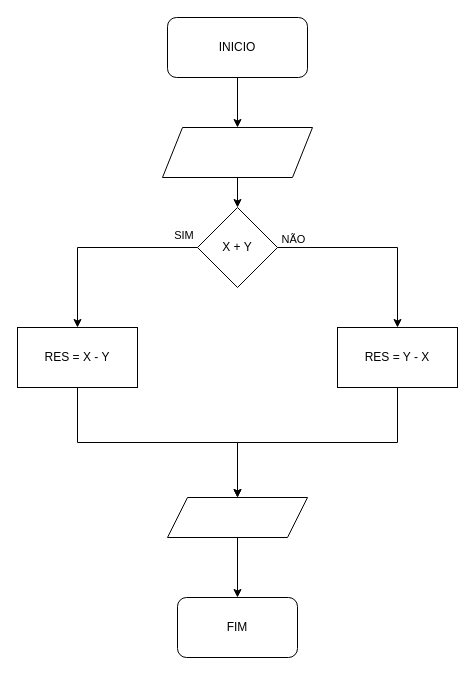
Some shapes in this 475 by 675 pixel diagram are drawn without their labels. The centre of each missing label's shape, as x and y in pixels:
"ESCREVER RES" goes at [237,517].
"LER X, Y" goes at [237,152].
